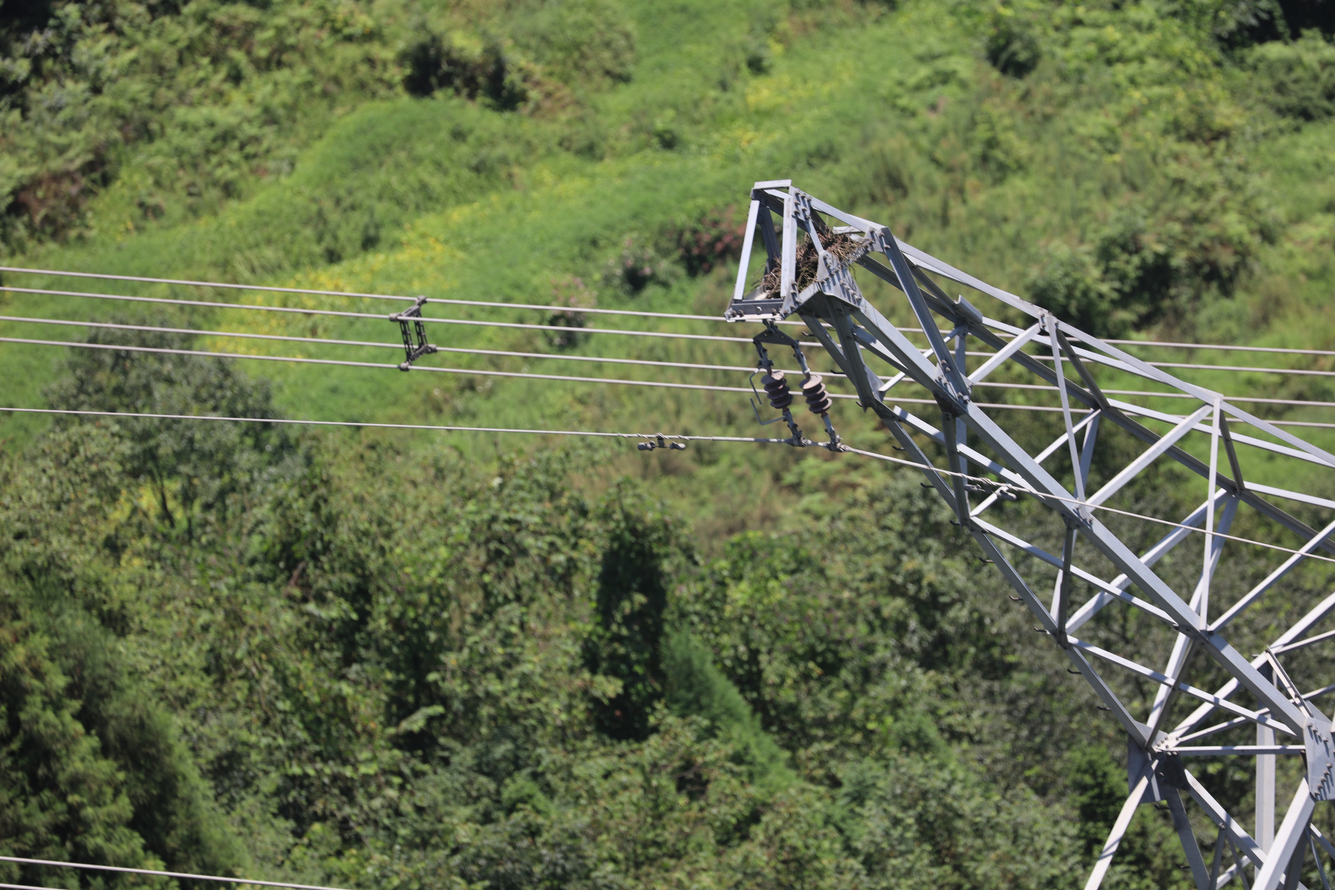damper: (962, 475, 1020, 504), (634, 429, 689, 454)
